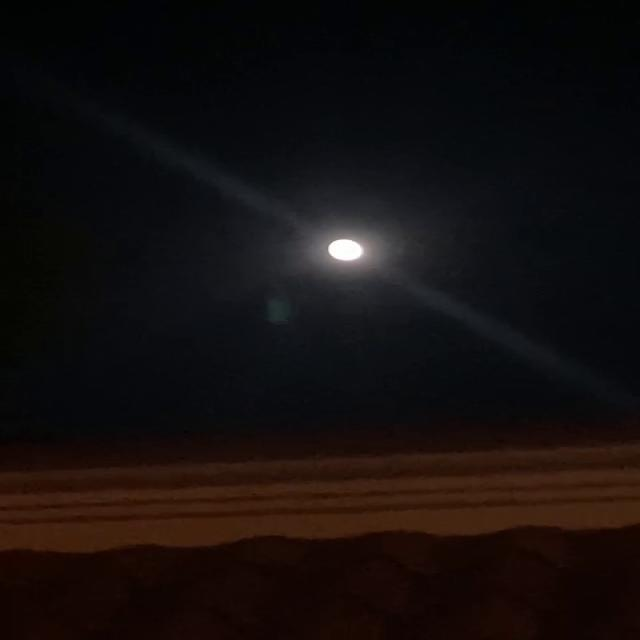moon: (328, 239, 370, 263)
